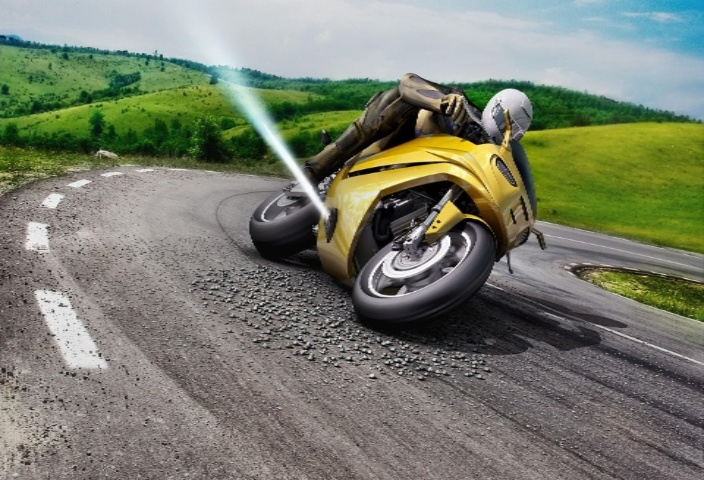motorcycle: (194, 52, 548, 334)
